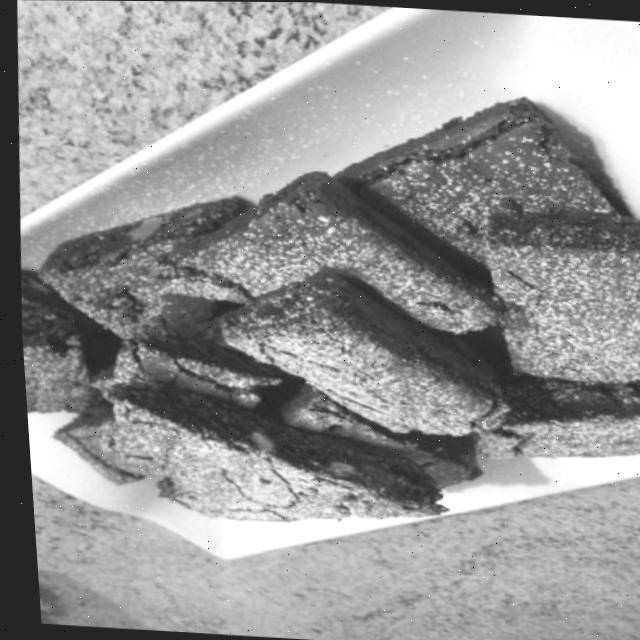蛋糕甜品: (3, 65, 640, 606)
